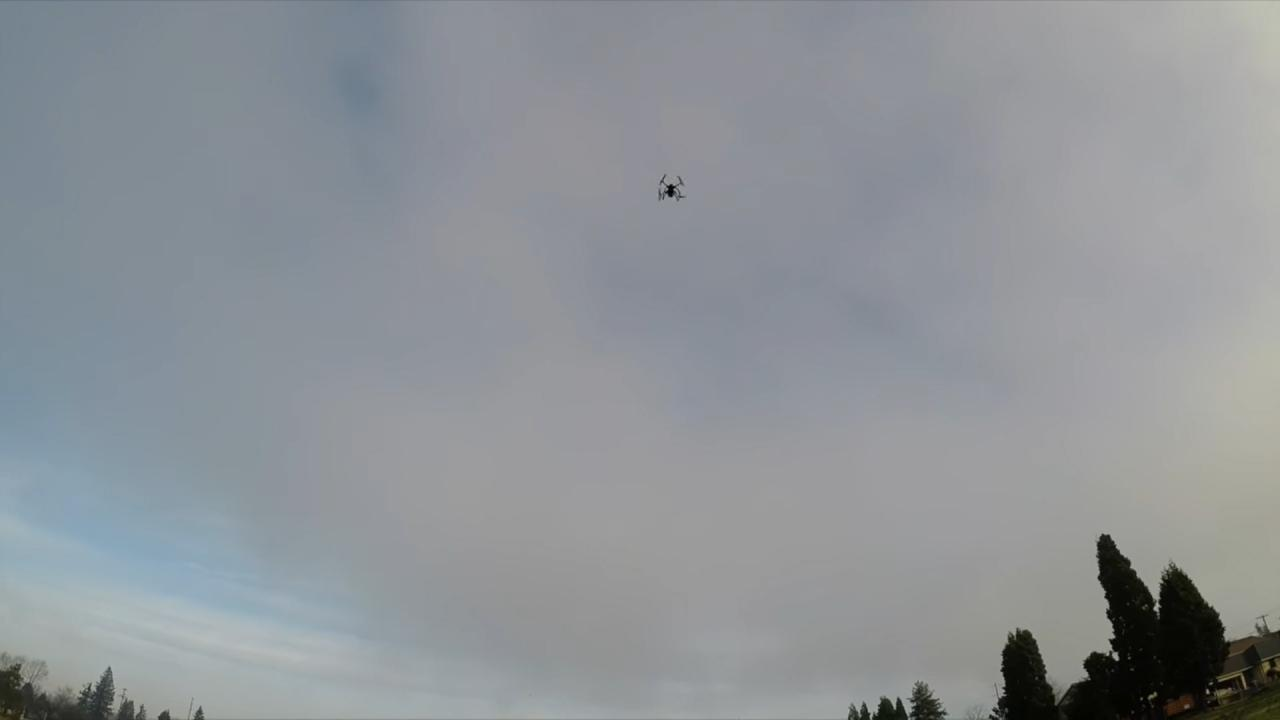Drone: (649, 164, 695, 211)
